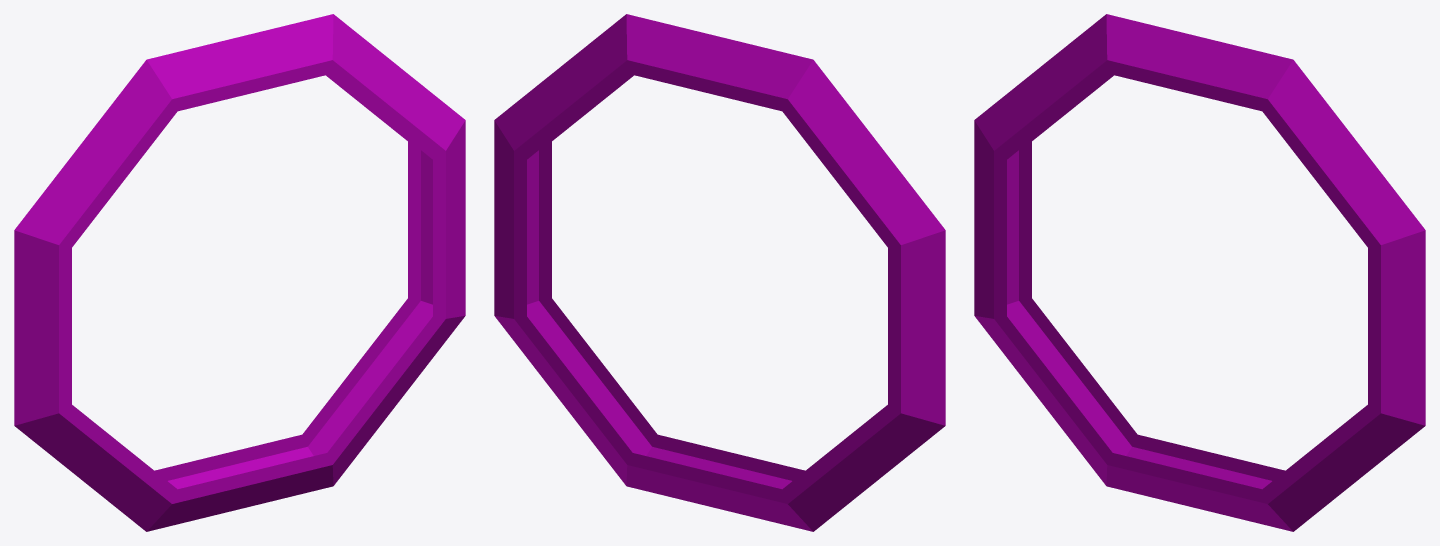
The model's file is fix.glb.
3 views of the same model, side by side, from view 1: azimuth 30°, elevation 25°; view 2: azimuth 150°, elevation 25°; view 3: azimuth 330°, elevation 25° (orthographic).
Visible parts, largest first — view 1: fix; view 2: fix; view 3: fix.
Boxes of the visible parts, <box> form: fix: <box>14,14,465,531</box>; fix: <box>494,14,945,531</box>; fix: <box>974,14,1425,531</box>.
Bounding box in the file's own units: 12.6 × 12.6 × 1.21.
